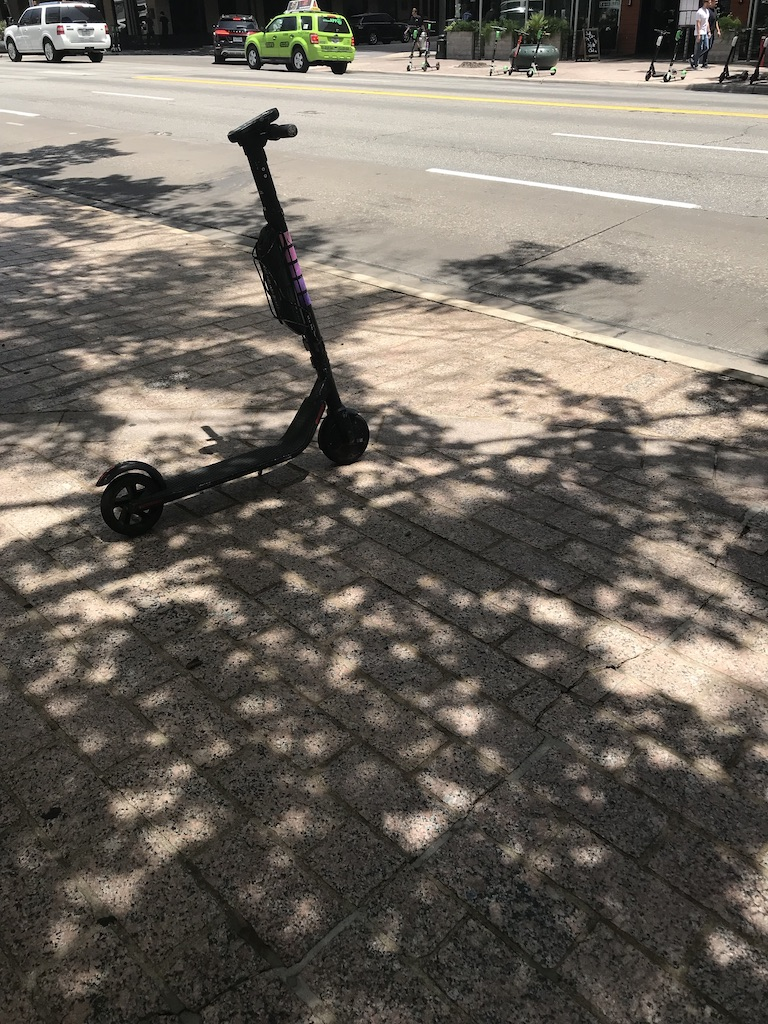scooter: (98, 109, 372, 542)
